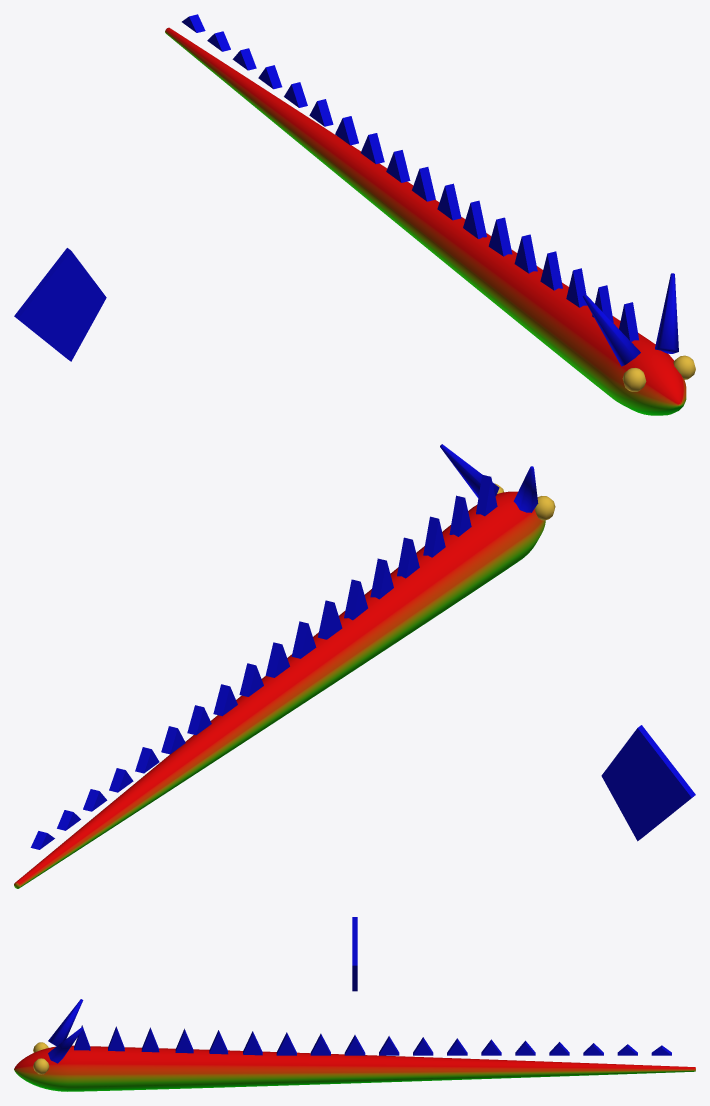
The model's file is fish_serpent.glb.
3 views of the same model, one above another, from view 1: azimuth 30°, elevation 25°; view 2: azimuth 150°, elevation 25°; view 3: azimuth 270°, elevation 25° (orthographic). The views are drawn at different scales.
Visible parts, largest first — view 1: Body, Eye; view 2: Body; view 3: Body, Eye.
Part boxes in pixels (box(x1,y1,x2,y2)): Body: box(14, 14, 686, 415); Eye: box(622, 355, 695, 391); Body: box(14, 444, 695, 888); Body: box(14, 917, 695, 1091); Eye: box(33, 1042, 49, 1074).
Size of the model in its own units: 0.5117 by 0.1512 by 1.
